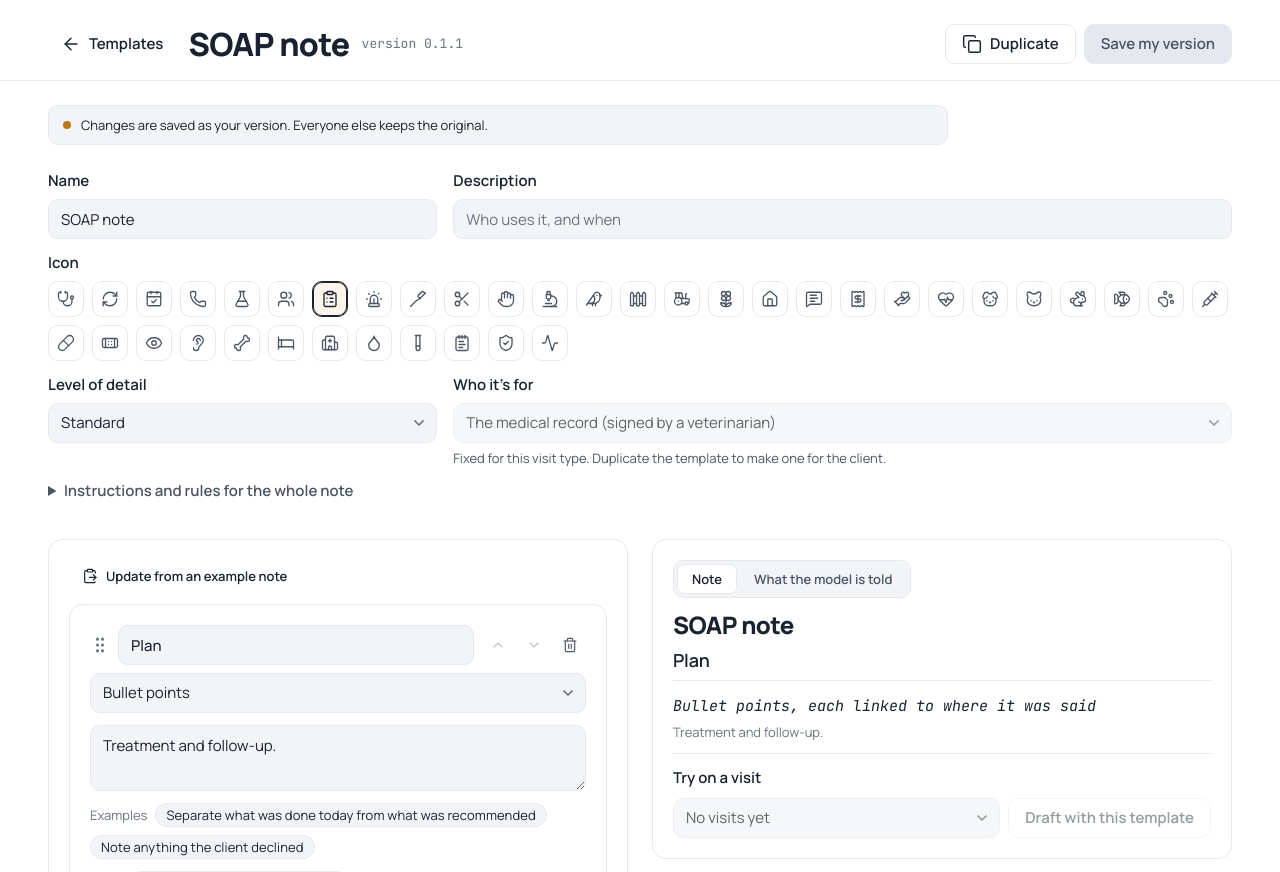
Test: Templates: the editor › keeps your changes on screen when the template changed meanwhile
Replace the text in the text box named "Instruction for Plan" with "Mine." at x=338, y=758, box [90, 725, 586, 791]
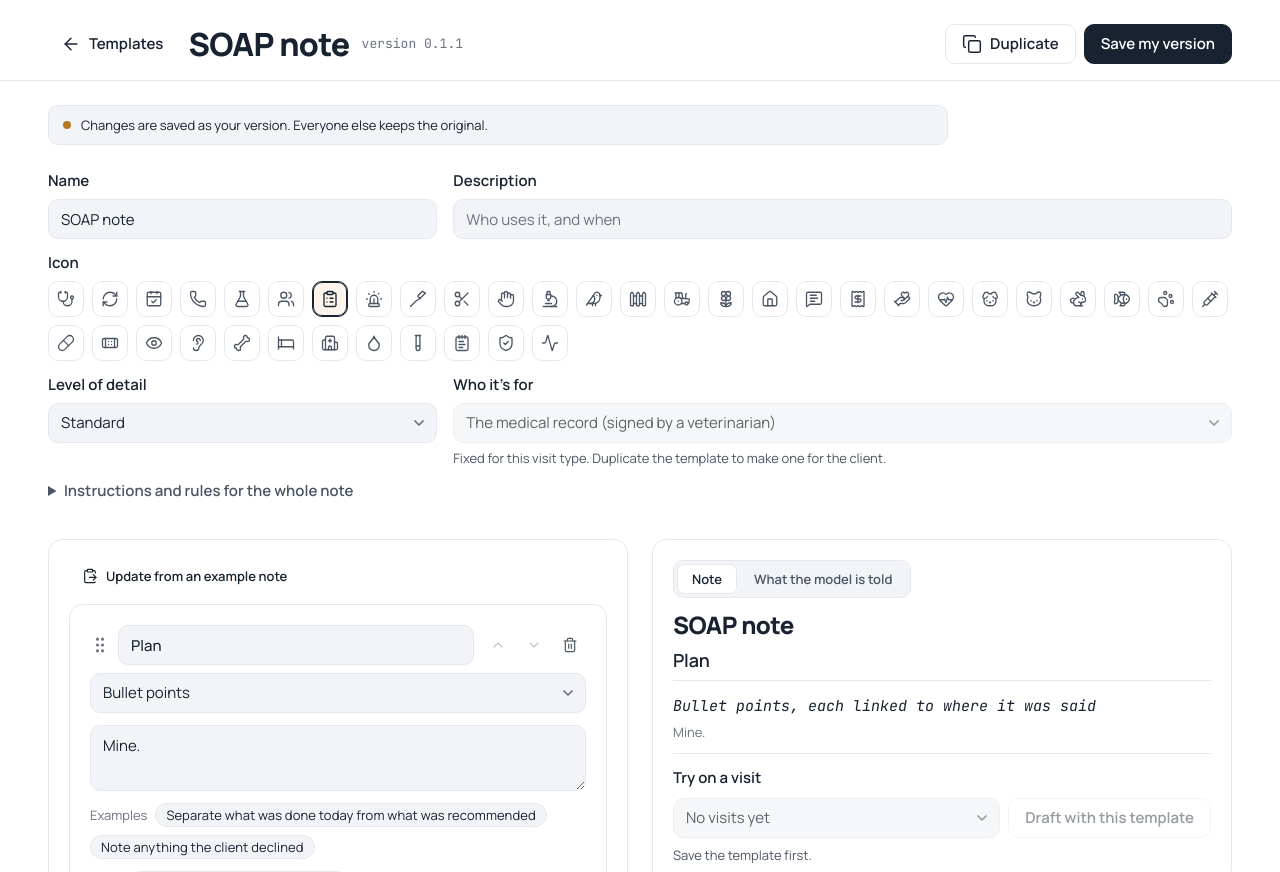
Now the button "Save my version" is enabled
Click the button "Save my version" at x=1158, y=44, box [1084, 24, 1232, 64]
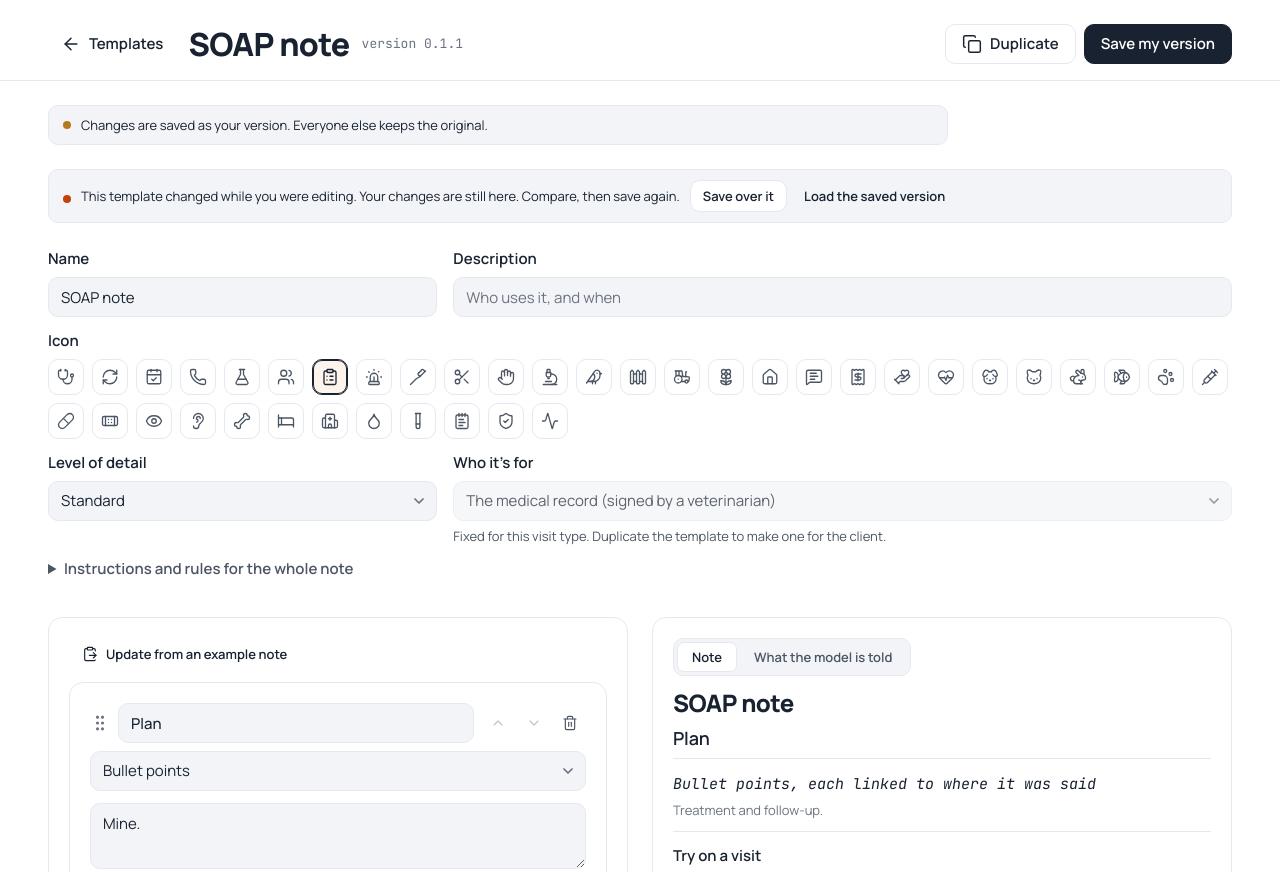
Now the text "changed while you were editing" is shown, box [81, 187, 680, 205]
Now the button "Save over it" is shown, box [690, 180, 787, 212]
